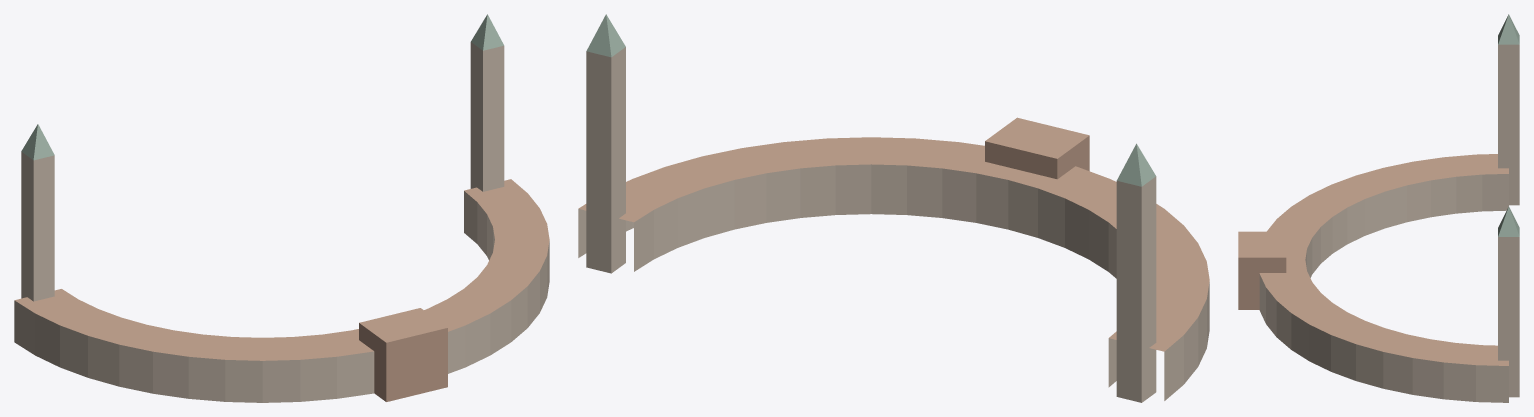
Rendered from plazaespana.glb.
3 views of the same model, side by side, from view 1: azimuth 30°, elevation 25°; view 2: azimuth 150°, elevation 25°; view 3: azimuth 270°, elevation 25° (orthographic). The views are drawn at different scales.
Bounding box in the file's own units: 210 × 86 × 118.
